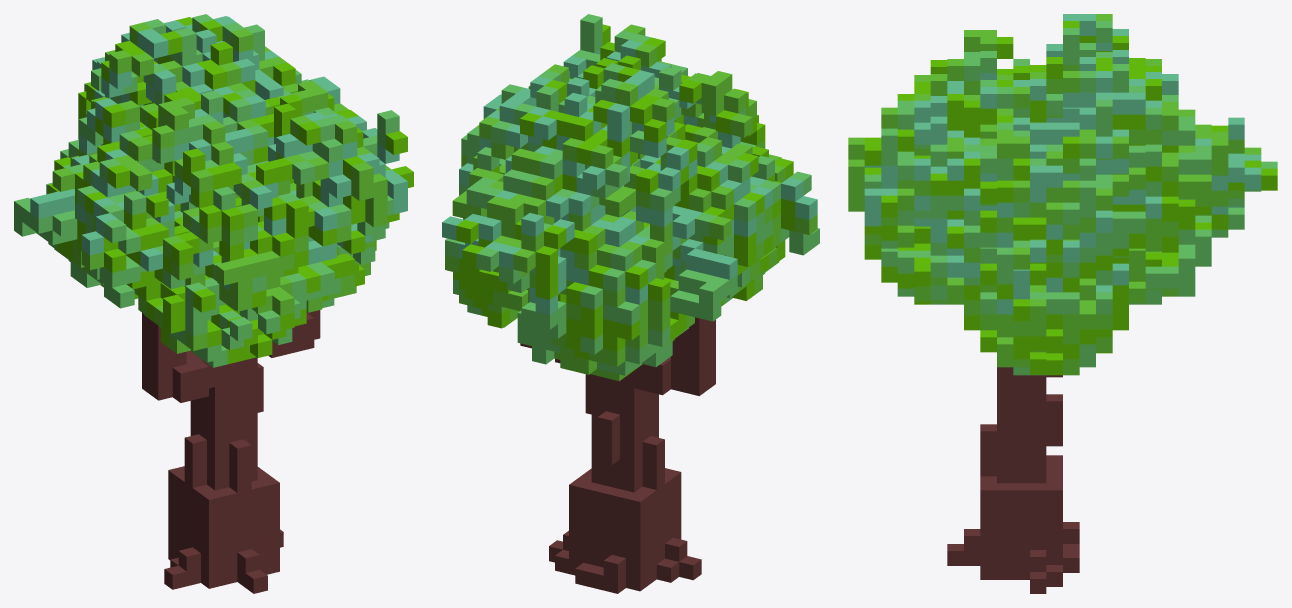
Rendered from map_v1-19.obj.
3 renders of one model, left to right at view 1: azimuth 30°, elevation 25°; view 2: azimuth 150°, elevation 25°; view 3: azimuth 270°, elevation 25°, orthographic.
Bounding box in the file's own units: 4.4 × 7 × 5.2.
1 material, 1 textured.
